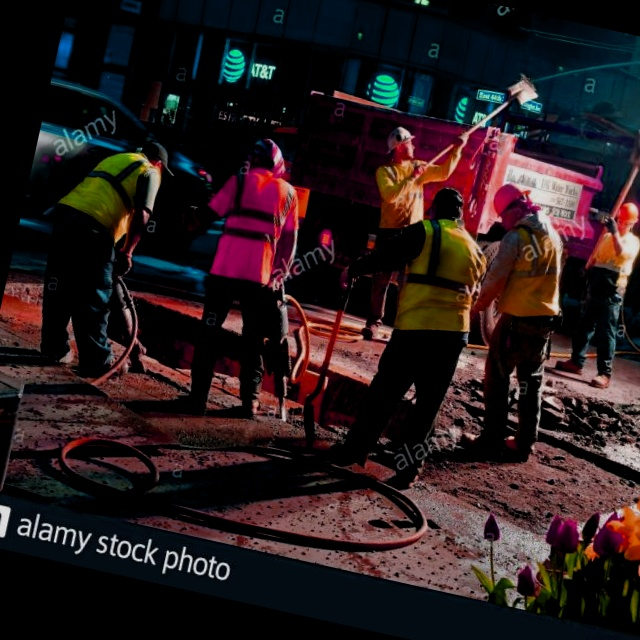Con_Casco: (490, 179, 533, 233), (384, 124, 418, 161), (613, 199, 640, 236)
Con_Chaleco: (395, 212, 491, 336), (206, 162, 298, 288), (63, 143, 162, 246), (494, 218, 573, 326)
Sin_Casco_Mascarrilla: (423, 184, 467, 223)
